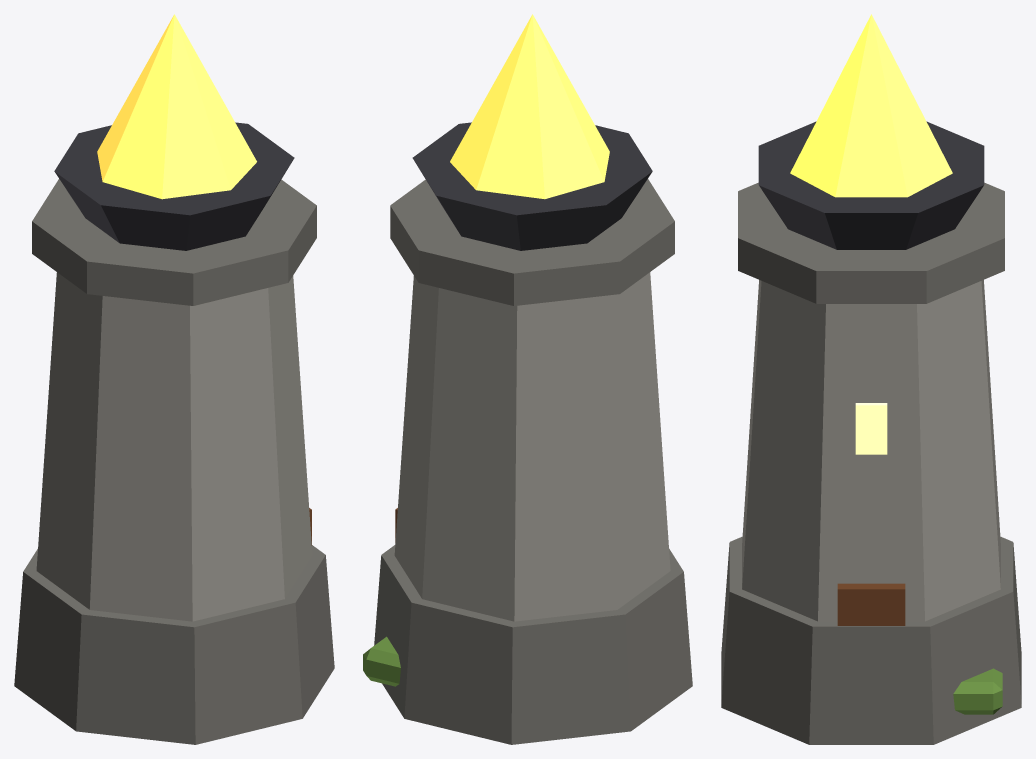
File: beacon.glb
3 renders of one model, left to right at view 1: azimuth 30°, elevation 25°; view 2: azimuth 150°, elevation 25°; view 3: azimuth 270°, elevation 25°, orthographic.
Parts seen in each view (by area): view 1: beacon; view 2: beacon; view 3: beacon.
Part boxes in pixels (x1=…): beacon: x1=14, y1=14, x2=334, y2=744; beacon: x1=363, y1=14, x2=692, y2=744; beacon: x1=721, y1=14, x2=1021, y2=744.
Bounding box in the file's own units: 0.6652 × 1.63 × 0.6652.
